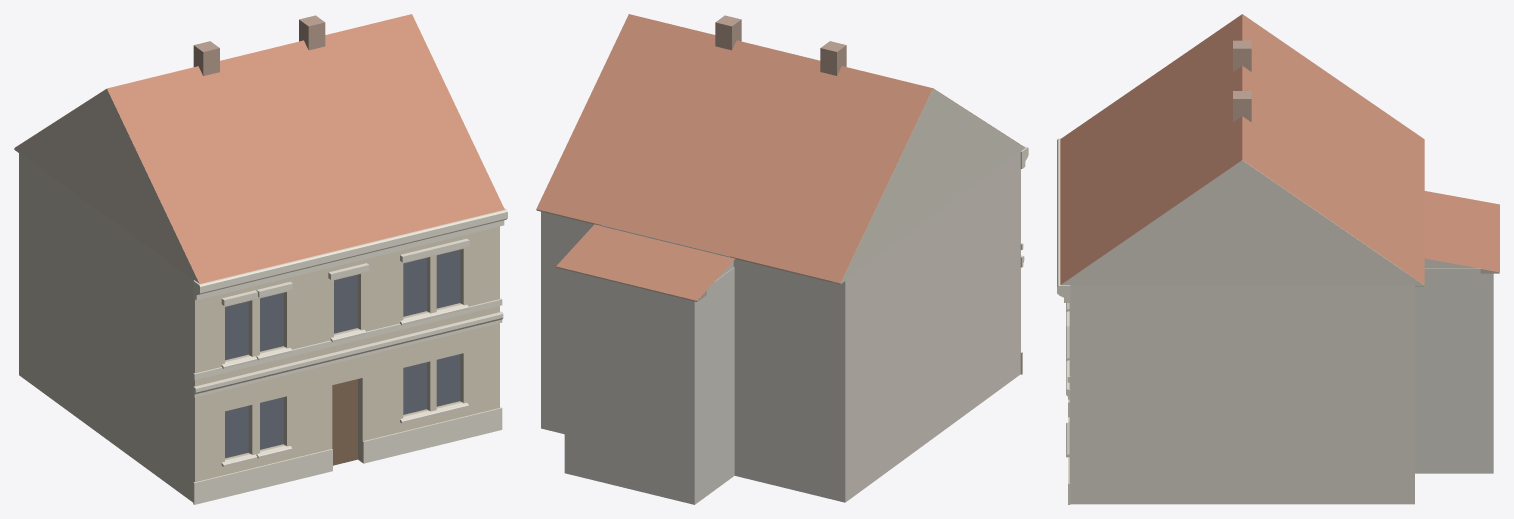
The picture shows the model from 3 angles, left to right: view 1: azimuth 30°, elevation 25°; view 2: azimuth 150°, elevation 25°; view 3: azimuth 270°, elevation 25°; orthographic projection.
Visible parts, largest first — view 1: CP_1131_Masonry, CP_1131_Roof, CP_1131_Gable_L_gable, CP_1131_Cornice_main_0, CP_1131_Cornice_string_0, CP_1131_Cornice_plinth_1, CP_1131_Cornice_plinth_0, CP_1131_Cornice_sillband_0, CP_1131_Chimney_0, CP_1131_Chimney_1; view 2: CP_1131_Masonry, CP_1131_Roof, CP_1131_Rear_Stair, CP_1131_Gable_L_gable, CP_1131_WingRoof_Rear_Stair, CP_1131_Chimney_1, CP_1131_Chimney_0; view 3: CP_1131_Masonry, CP_1131_Roof, CP_1131_Gable_R_gable, CP_1131_Rear_Stair, CP_1131_WingRoof_Rear_Stair, CP_1131_Cornice_main_0, CP_1131_Chimney_0, CP_1131_Chimney_1.
Part boxes in pixels (x1=…): CP_1131_Masonry: x1=19, y1=153, x2=499, y2=502; CP_1131_Roof: x1=15, y1=14, x2=504, y2=283; CP_1131_Gable_L_gable: x1=14, y1=89, x2=199, y2=283; CP_1131_Cornice_main_0: x1=193, y1=208, x2=507, y2=300; CP_1131_Cornice_string_0: x1=193, y1=311, x2=503, y2=397; CP_1131_Cornice_plinth_1: x1=362, y1=407, x2=502, y2=463; CP_1131_Cornice_plinth_0: x1=193, y1=449, x2=332, y2=504; CP_1131_Cornice_sillband_0: x1=193, y1=298, x2=502, y2=380; CP_1131_Chimney_0: x1=193, y1=41, x2=219, y2=75; CP_1131_Chimney_1: x1=299, y1=15, x2=325, y2=50; CP_1131_Masonry: x1=541, y1=152, x2=1020, y2=502; CP_1131_Roof: x1=536, y1=14, x2=1023, y2=283; CP_1131_Rear_Stair: x1=564, y1=267, x2=734, y2=504; CP_1131_Gable_L_gable: x1=832, y1=88, x2=1024, y2=283; CP_1131_WingRoof_Rear_Stair: x1=556, y1=224, x2=734, y2=300; CP_1131_Chimney_1: x1=715, y1=15, x2=741, y2=50; CP_1131_Chimney_0: x1=820, y1=41, x2=846, y2=75; CP_1131_Masonry: x1=1069, y1=285, x2=1414, y2=504; CP_1131_Roof: x1=1060, y1=14, x2=1424, y2=284; CP_1131_Gable_R_gable: x1=1061, y1=160, x2=1423, y2=285; CP_1131_Rear_Stair: x1=1415, y1=268, x2=1493, y2=473; CP_1131_WingRoof_Rear_Stair: x1=1424, y1=191, x2=1499, y2=271; CP_1131_Cornice_main_0: x1=1057, y1=138, x2=1070, y2=302; CP_1131_Chimney_0: x1=1233, y1=40, x2=1251, y2=71; CP_1131_Chimney_1: x1=1233, y1=91, x2=1251, y2=122.
Size of the model in its own units: 11.1 by 12.7 by 14.1.
